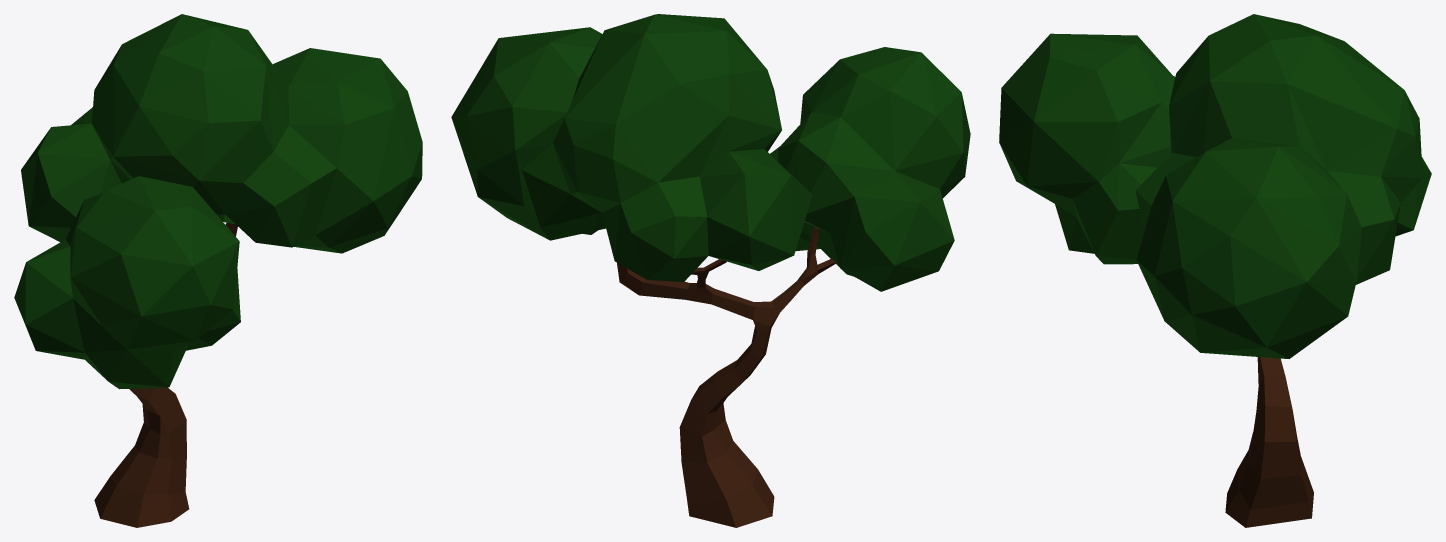
The model's file is Tree7.FBX.
The picture shows the model from 3 angles, left to right: view 1: azimuth 30°, elevation 25°; view 2: azimuth 150°, elevation 25°; view 3: azimuth 270°, elevation 25°; orthographic projection. The views are drawn at different scales.
Parts seen in each view (by area): view 1: LowPoly_Tree_07_lowpoly_tree_04_Plane_012; view 2: LowPoly_Tree_07_lowpoly_tree_04_Plane_012; view 3: LowPoly_Tree_07_lowpoly_tree_04_Plane_012.
Part boxes in pixels (left/top/right/bottom): LowPoly_Tree_07_lowpoly_tree_04_Plane_012: left=14, top=14, right=422, bottom=527; LowPoly_Tree_07_lowpoly_tree_04_Plane_012: left=451, top=14, right=970, bottom=527; LowPoly_Tree_07_lowpoly_tree_04_Plane_012: left=999, top=14, right=1431, bottom=527.
Size of the model in its own units: 4.16 by 4.3 by 3.33.
